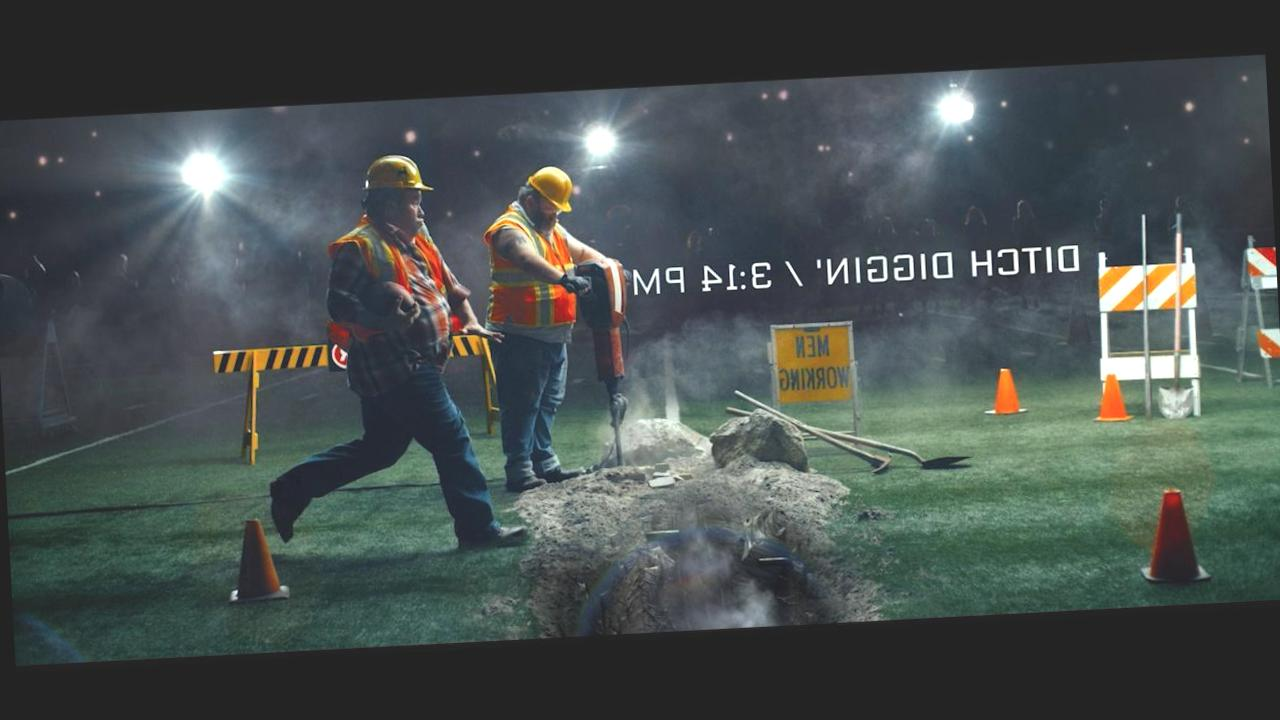helmet: (352, 156, 442, 209), (516, 162, 592, 222)
no_vest: (325, 209, 452, 377), (483, 208, 582, 342)
person: (316, 146, 496, 574), (468, 154, 620, 488)
